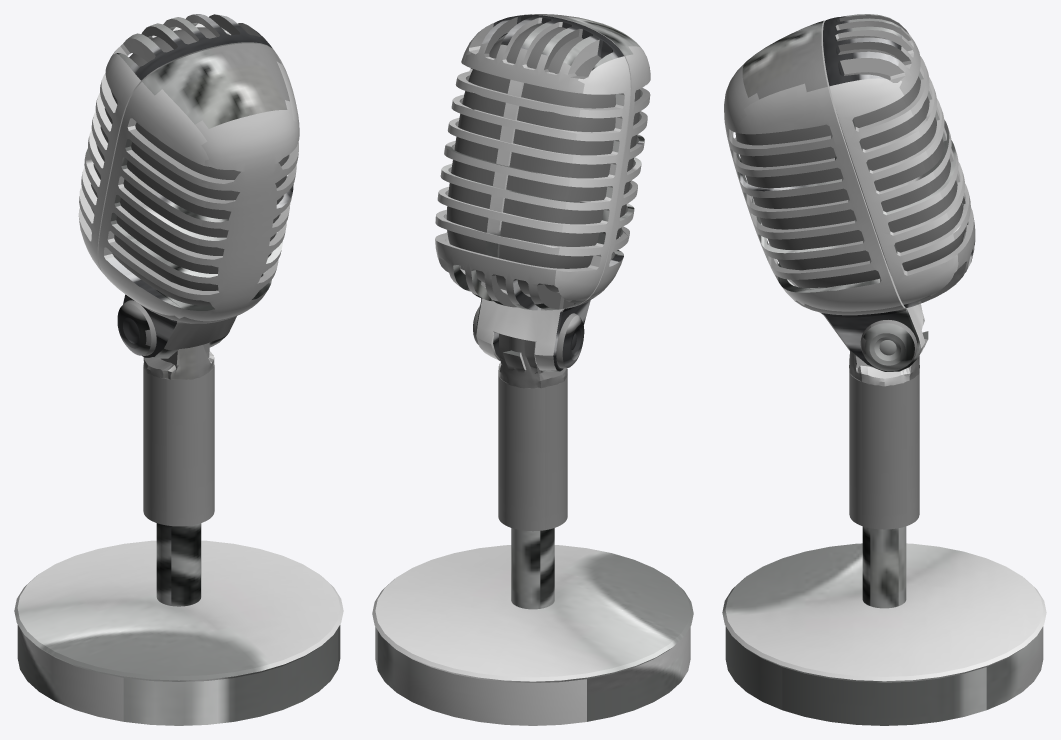
Rendered from KTV.gltf.
The picture shows the model from 3 angles, left to right: view 1: azimuth 30°, elevation 25°; view 2: azimuth 150°, elevation 25°; view 3: azimuth 270°, elevation 25°; orthographic projection. The views are drawn at different scales.
Visible parts, largest first — view 1: node_default_-113288; view 2: node_default_-113288; view 3: node_default_-113288.
Boxes of the visible parts, <box> form: node_default_-113288: <box>14,14,343,725</box>; node_default_-113288: <box>372,14,693,725</box>; node_default_-113288: <box>722,14,1046,725</box>.
Bounding box in the file's own units: 0.204 × 0.4377 × 0.204.
